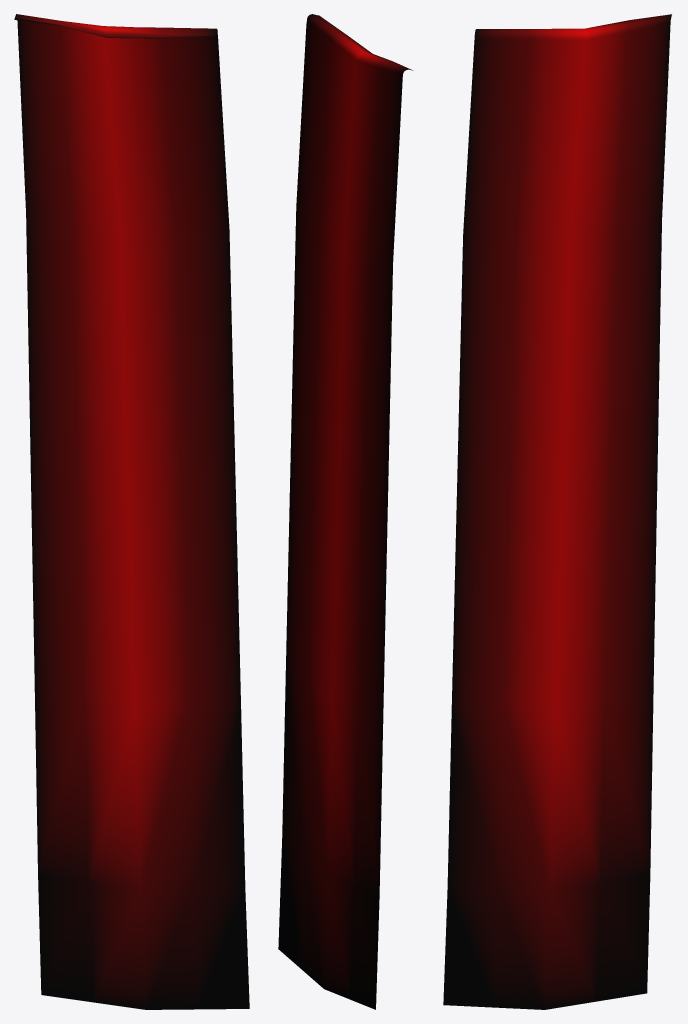
Rendered from Bathtop_Water_Flow_03.fbx.
The picture shows the model from 3 angles, left to right: view 1: azimuth 90°, elevation 25°; view 2: azimuth 210°, elevation 25°; view 3: azimuth 270°, elevation 25°; orthographic projection. The views are drawn at different scales.
Visible parts, largest first — view 1: Bathtop_water_Flow_3; view 2: Bathtop_water_Flow_3; view 3: Bathtop_water_Flow_3.
Boxes of the visible parts, x1,y1,x2,y2 form: Bathtop_water_Flow_3: [14, 14, 249, 1009]; Bathtop_water_Flow_3: [278, 14, 413, 1009]; Bathtop_water_Flow_3: [443, 14, 671, 1009].
Bounding box in the file's own units: 472 × 14058 × 2980.
